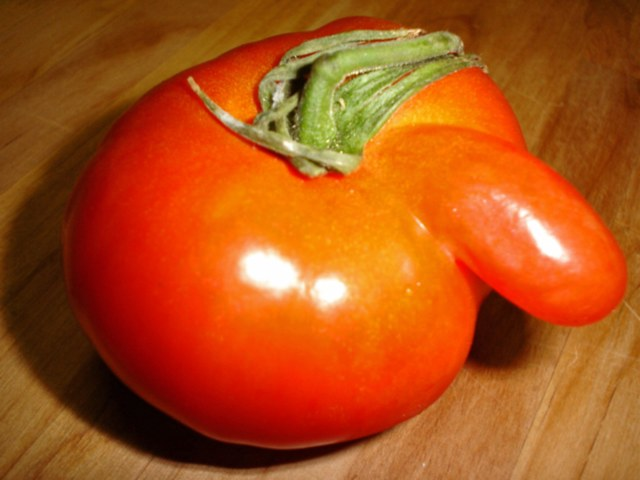tomato: (63, 15, 628, 450)
